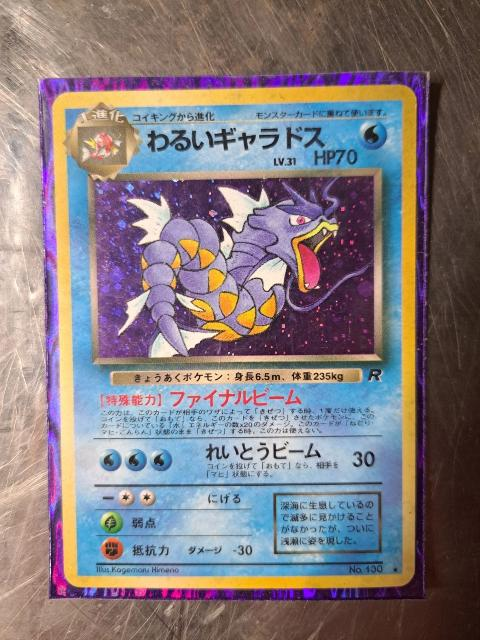Card: (49, 80, 421, 592)
Name: (140, 120, 331, 159)
